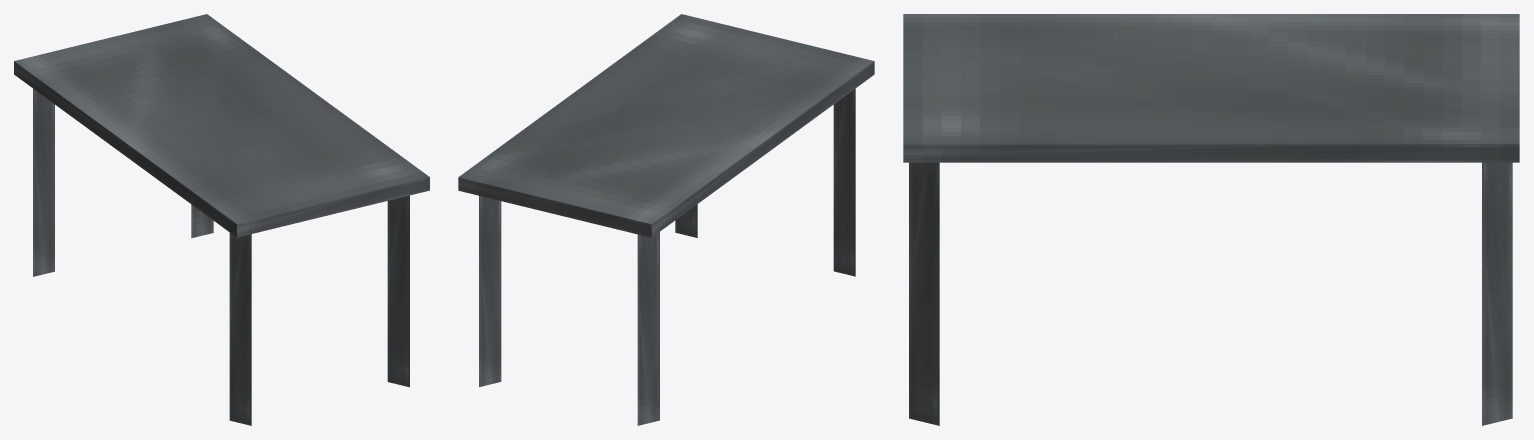
Rendered from coffeetable.fbx.
3 views of the same model, side by side, from view 1: azimuth 30°, elevation 25°; view 2: azimuth 150°, elevation 25°; view 3: azimuth 270°, elevation 25° (orthographic). The views are drawn at different scales.
Visible parts, largest first — view 1: coffeetable; view 2: coffeetable; view 3: coffeetable.
Part boxes in pixels (<box>): coffeetable: <box>14,14,429,425</box>; coffeetable: <box>458,14,874,425</box>; coffeetable: <box>903,14,1519,425</box>.
Size of the model in its own units: 45.72 by 46.92 by 91.44.
